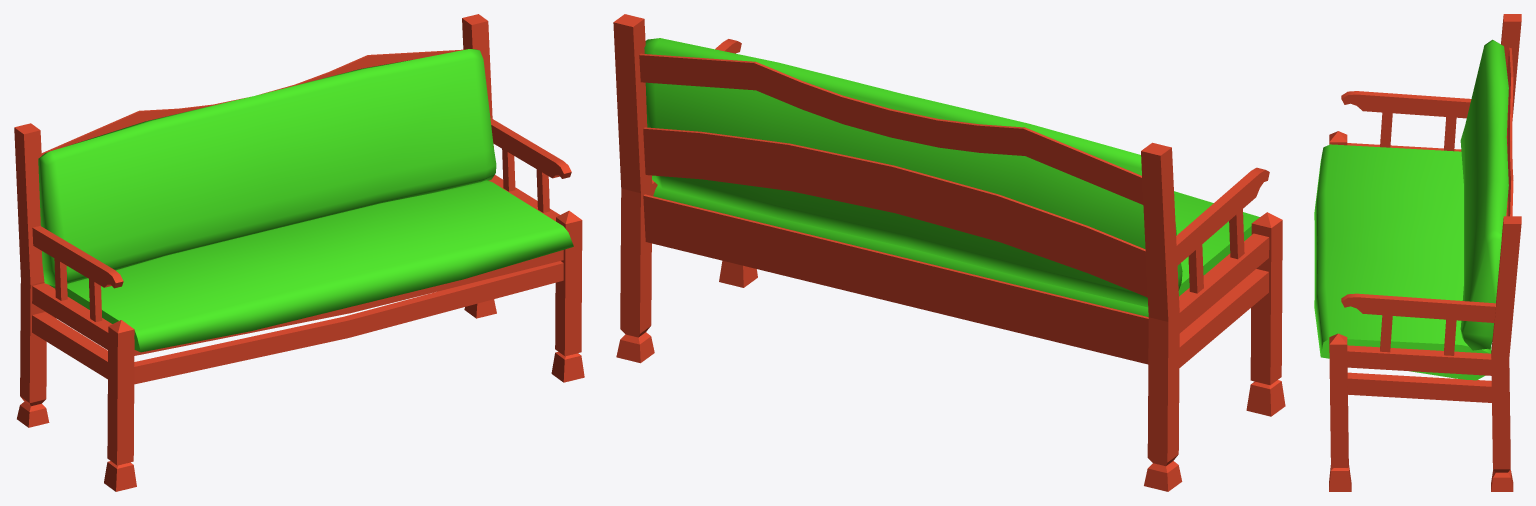
File: 1TABLE.glb
The picture shows the model from 3 angles, left to right: view 1: azimuth 30°, elevation 25°; view 2: azimuth 150°, elevation 25°; view 3: azimuth 270°, elevation 25°; orthographic projection. The views are drawn at different scales.
Visible parts, largest first — view 1: Prop_Sofa_B; view 2: Prop_Sofa_B; view 3: Prop_Sofa_B.
Boxes of the visible parts, x1=… form: Prop_Sofa_B: x1=14, y1=14, x2=584, y2=491; Prop_Sofa_B: x1=613, y1=14, x2=1285, y2=491; Prop_Sofa_B: x1=1314, y1=14, x2=1521, y2=491.
Bounding box in the file's own units: 2.06 × 1.21 × 0.8491.
